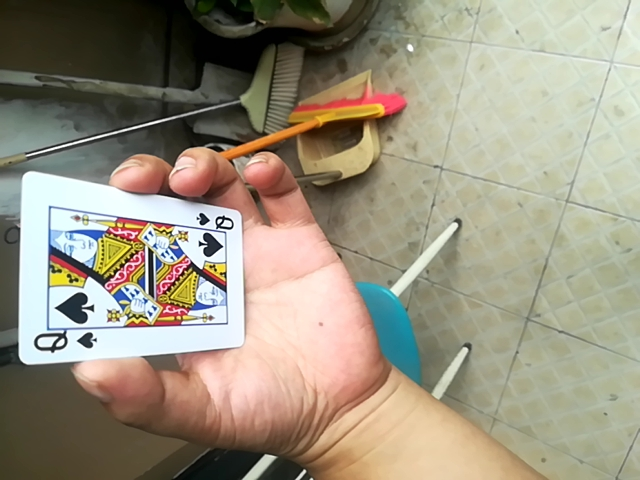ht q: (12, 170, 249, 362)
